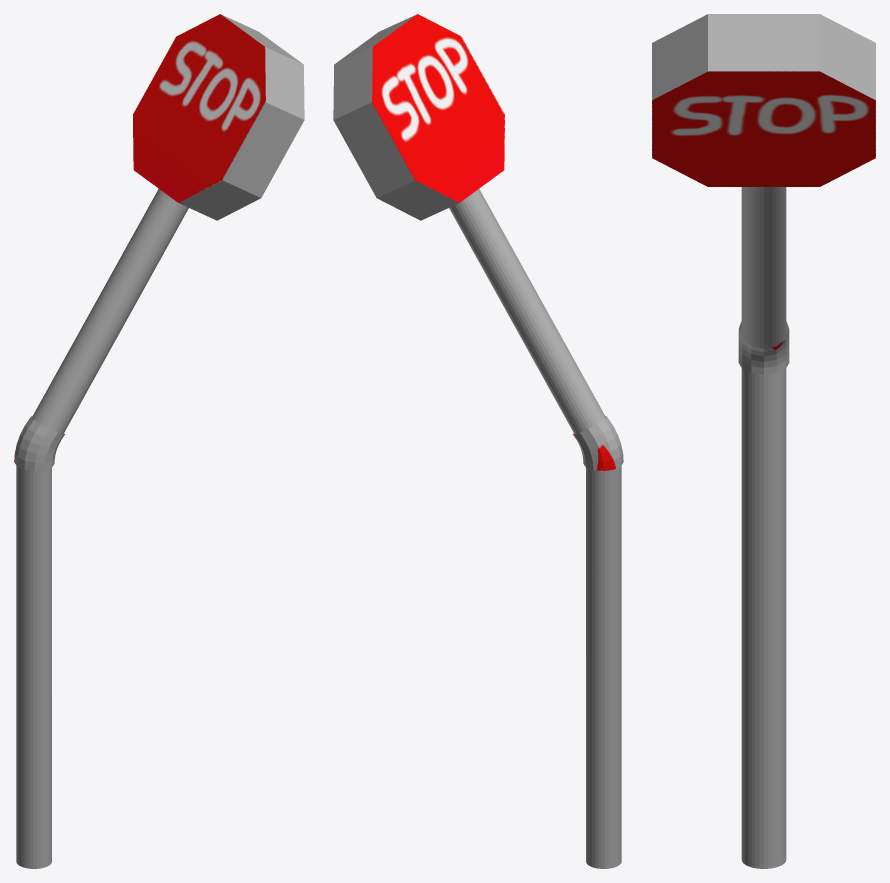
File: Bent Stop Sign.mtl.obj
3 renders of one model, left to right at view 1: azimuth 30°, elevation 25°; view 2: azimuth 150°, elevation 25°; view 3: azimuth 270°, elevation 25°, orthographic. The views are drawn at different scales.
Parts seen in each view (by area): view 1: Cylinder; view 2: Cylinder; view 3: Cylinder.
Boxes of the visible parts, x1,y1,x2,y2 form: Cylinder: [14, 14, 304, 868]; Cylinder: [333, 14, 623, 868]; Cylinder: [652, 14, 875, 868].
Bounding box in the file's own units: 3.4 × 9.59 × 2.
